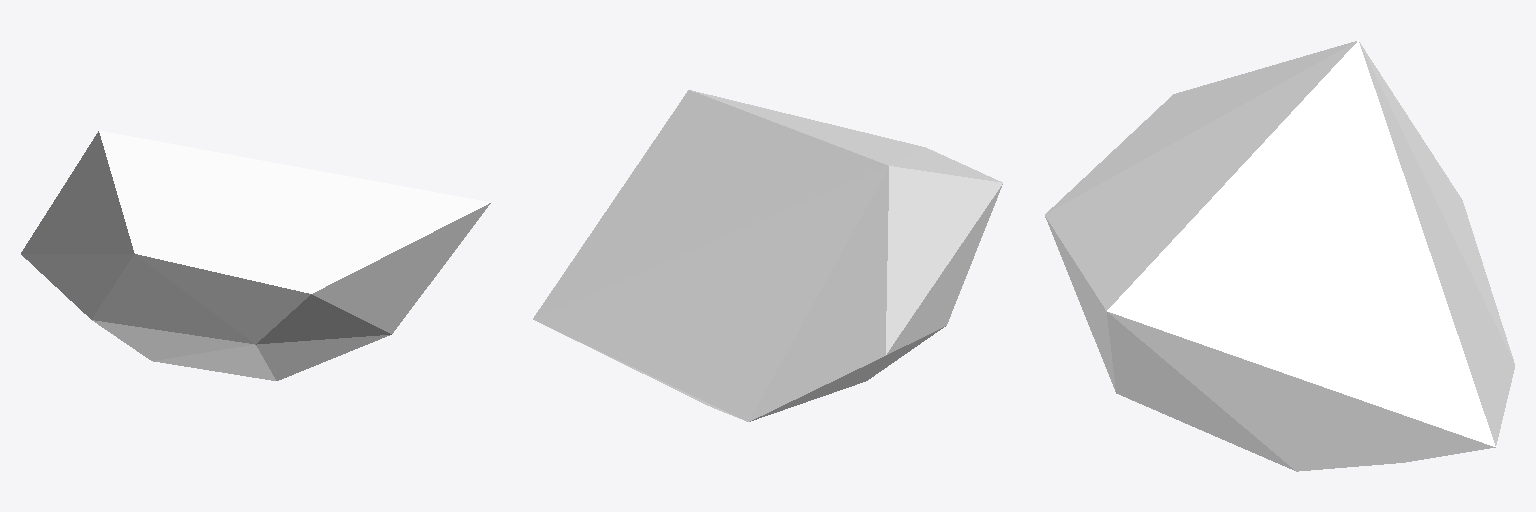
The robot description file, URDF, robot "hyq_rhleg_rom":
 <robot name="hyq_rhleg_rom">
  <link name="hyq_rhleg_link">
    <visual>
      <origin xyz="0 0 0" rpy="0 0 0" />
      <geometry>
        <mesh filename="package://hpp-rbprm-corba/meshes/hyq/hyq_rhleg_rom.stl"/>
      </geometry>
      <material name="white">
        <color rgba="1 1 1 1"/>
      </material>
    </visual>
    <collision>
      <origin xyz="0 0 0" rpy="0 0 0" />
      <geometry>
        <mesh filename="package://hpp-rbprm-corba/meshes/hyq/hyq_rhleg_rom.stl"/>
      </geometry>
    </collision>
  </link>
</robot>

--- Facts derived from the render (not from the file) ---
The picture shows the robot from 3 angles, left to right: view 1: azimuth 30°, elevation 25°; view 2: azimuth 150°, elevation 25°; view 3: azimuth 270°, elevation 25°; orthographic projection.
Robot: hyq_rhleg_rom — 1 links, 0 joints (none); root link hyq_rhleg_link; default pose: all joints at 0.
Links seen in each view (by area): view 1: hyq_rhleg_link; view 2: hyq_rhleg_link; view 3: hyq_rhleg_link.
Link boxes in pixels (box(x1,y1,x2,y2)): hyq_rhleg_link: box(21, 131, 490, 380); hyq_rhleg_link: box(533, 90, 1002, 421); hyq_rhleg_link: box(1045, 40, 1514, 471).
Size in the robot's own frame: 0.8767 by 0.8494 by 0.6493 metres.
1 mesh visuals loaded from 1 distinct referenced files (1 binary STL).